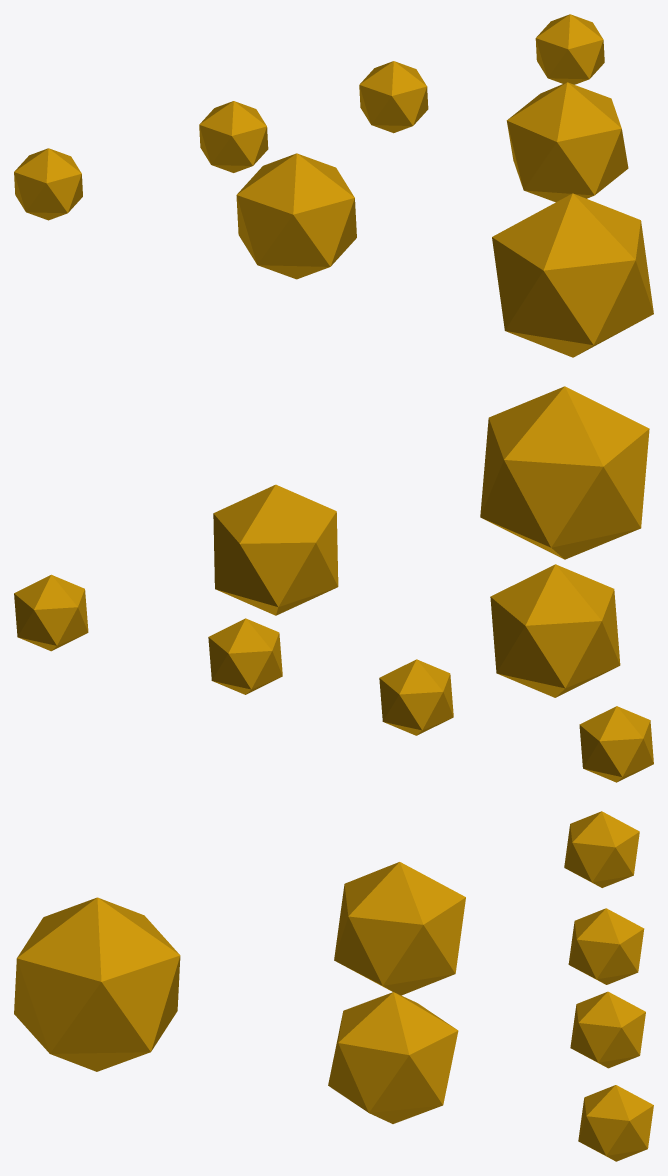
Rendered from energy_pull_tool.obj.
3 renders of one model, top to bottom at view 1: azimuth 30°, elevation 25°; view 2: azimuth 150°, elevation 25°; view 3: azimuth 270°, elevation 25°, orthographic. The views are drawn at different scales.
Visible parts, largest first — view 1: energy_remain_Icosphere.001, energy_remain_Icosphere.002, energy_remain_Icosphere, energy_remain_Icosphere.004, energy_remain_Icosphere.006, energy_remain_Icosphere.005, energy_remain_Icosphere.003; view 2: energy_remain_Icosphere.001, energy_remain_Icosphere.002, energy_remain_Icosphere, energy_remain_Icosphere.005, energy_remain_Icosphere.003, energy_remain_Icosphere.006, energy_remain_Icosphere.004; view 3: energy_remain_Icosphere.001, energy_remain_Icosphere.002, energy_remain_Icosphere, energy_remain_Icosphere.005, energy_remain_Icosphere.006, energy_remain_Icosphere.003, energy_remain_Icosphere.004.
Boxes of the visible parts, x1=… form: energy_remain_Icosphere.001: x1=492, y1=193, x2=653, y2=357; energy_remain_Icosphere.002: x1=236, y1=153, x2=356, y2=279; energy_remain_Icosphere: x1=506, y1=82, x2=628, y2=202; energy_remain_Icosphere.004: x1=359, y1=61, x2=428, y2=133; energy_remain_Icosphere.006: x1=199, y1=101, x2=268, y2=172; energy_remain_Icosphere.005: x1=14, y1=148, x2=82, y2=220; energy_remain_Icosphere.003: x1=535, y1=14, x2=604, y2=84; energy_remain_Icosphere.001: x1=480, y1=386, x2=649, y2=559; energy_remain_Icosphere.002: x1=490, y1=564, x2=620, y2=697; energy_remain_Icosphere: x1=213, y1=484, x2=338, y2=615; energy_remain_Icosphere.005: x1=579, y1=706, x2=653, y2=782; energy_remain_Icosphere.003: x1=14, y1=574, x2=88, y2=651; energy_remain_Icosphere.006: x1=379, y1=659, x2=453, y2=735; energy_remain_Icosphere.004: x1=208, y1=618, x2=282, y2=694; energy_remain_Icosphere.001: x1=14, y1=897, x2=180, y2=1071; energy_remain_Icosphere.002: x1=334, y1=862, x2=465, y2=995; energy_remain_Icosphere: x1=328, y1=992, x2=458, y2=1123; energy_remain_Icosphere.005: x1=564, y1=811, x2=639, y2=887; energy_remain_Icosphere.006: x1=568, y1=908, x2=644, y2=984; energy_remain_Icosphere.003: x1=578, y1=1085, x2=653, y2=1161; energy_remain_Icosphere.004: x1=570, y1=991, x2=645, y2=1068.
Size of the model in its own units: 0.9323 by 0.2489 by 0.8273.
